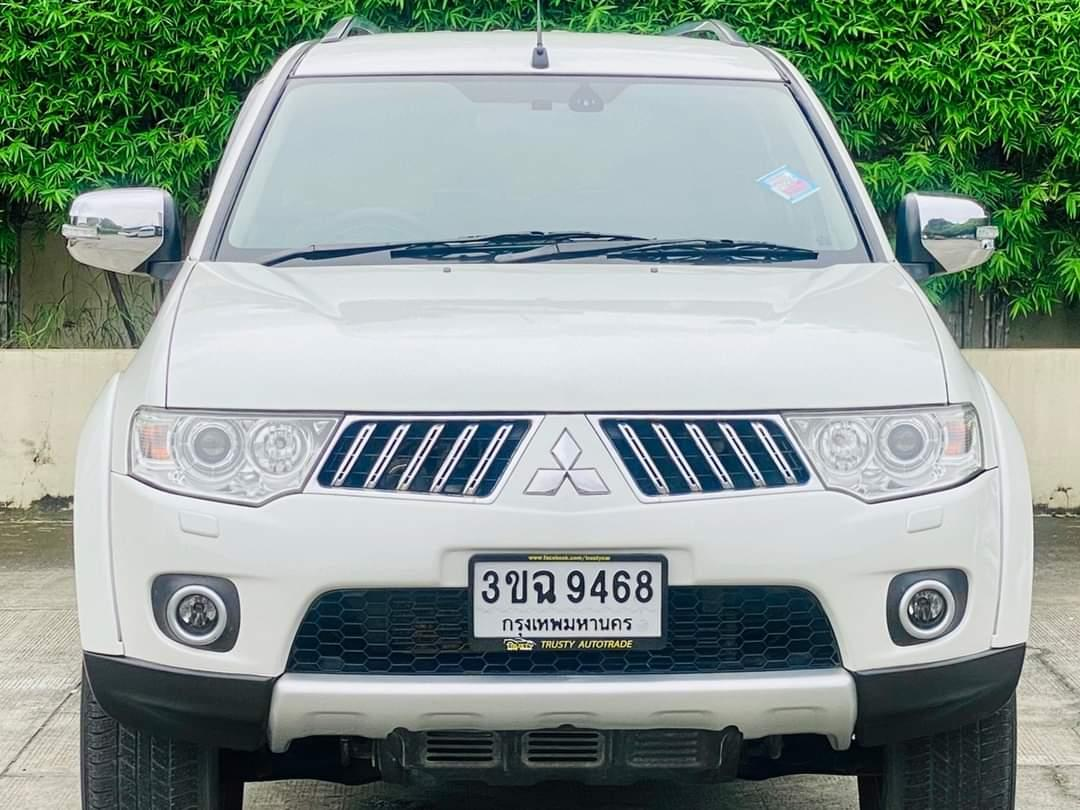license-plate: (465, 550, 670, 654)
